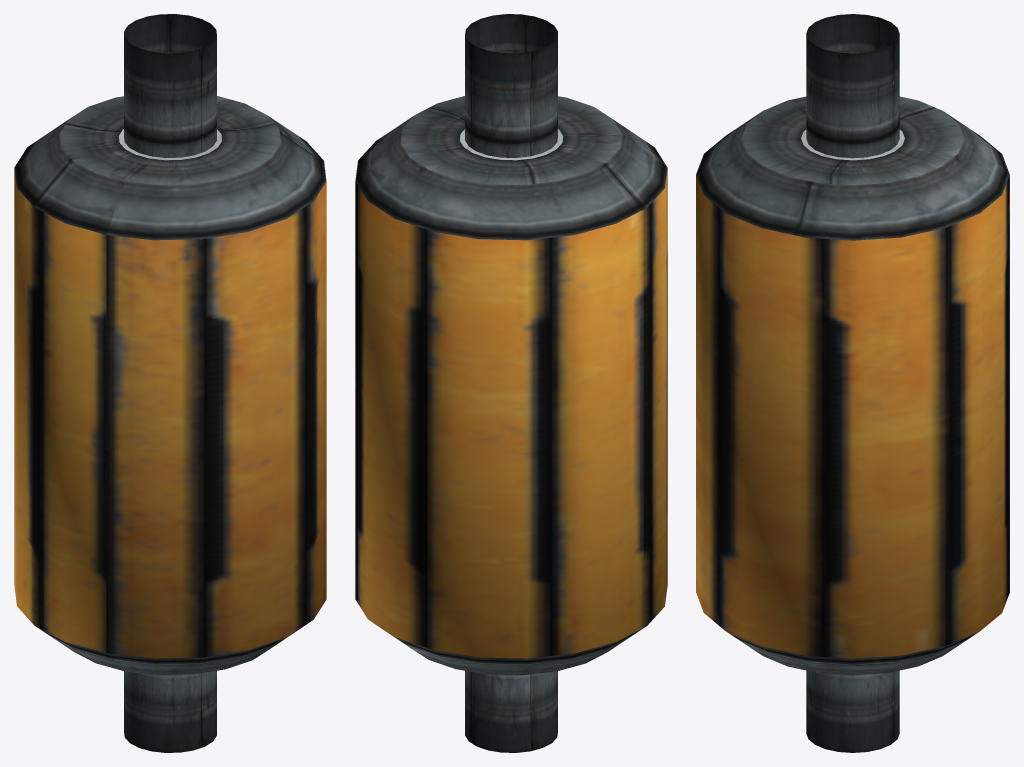
File: bobinageradorRETEX.fbx
The picture shows the model from 3 angles, left to right: view 1: azimuth 30°, elevation 25°; view 2: azimuth 150°, elevation 25°; view 3: azimuth 270°, elevation 25°; orthographic projection.
Visible parts, largest first — view 1: Cylinder.000; view 2: Cylinder.000; view 3: Cylinder.000.
Boxes of the visible parts, left/top/right/bottom form: Cylinder.000: left=14, top=14, right=326, bottom=752; Cylinder.000: left=355, top=14, right=667, bottom=752; Cylinder.000: left=696, top=14, right=1009, bottom=752.
Bounding box in the file's own units: 0.6658 × 1.64 × 0.6658.
